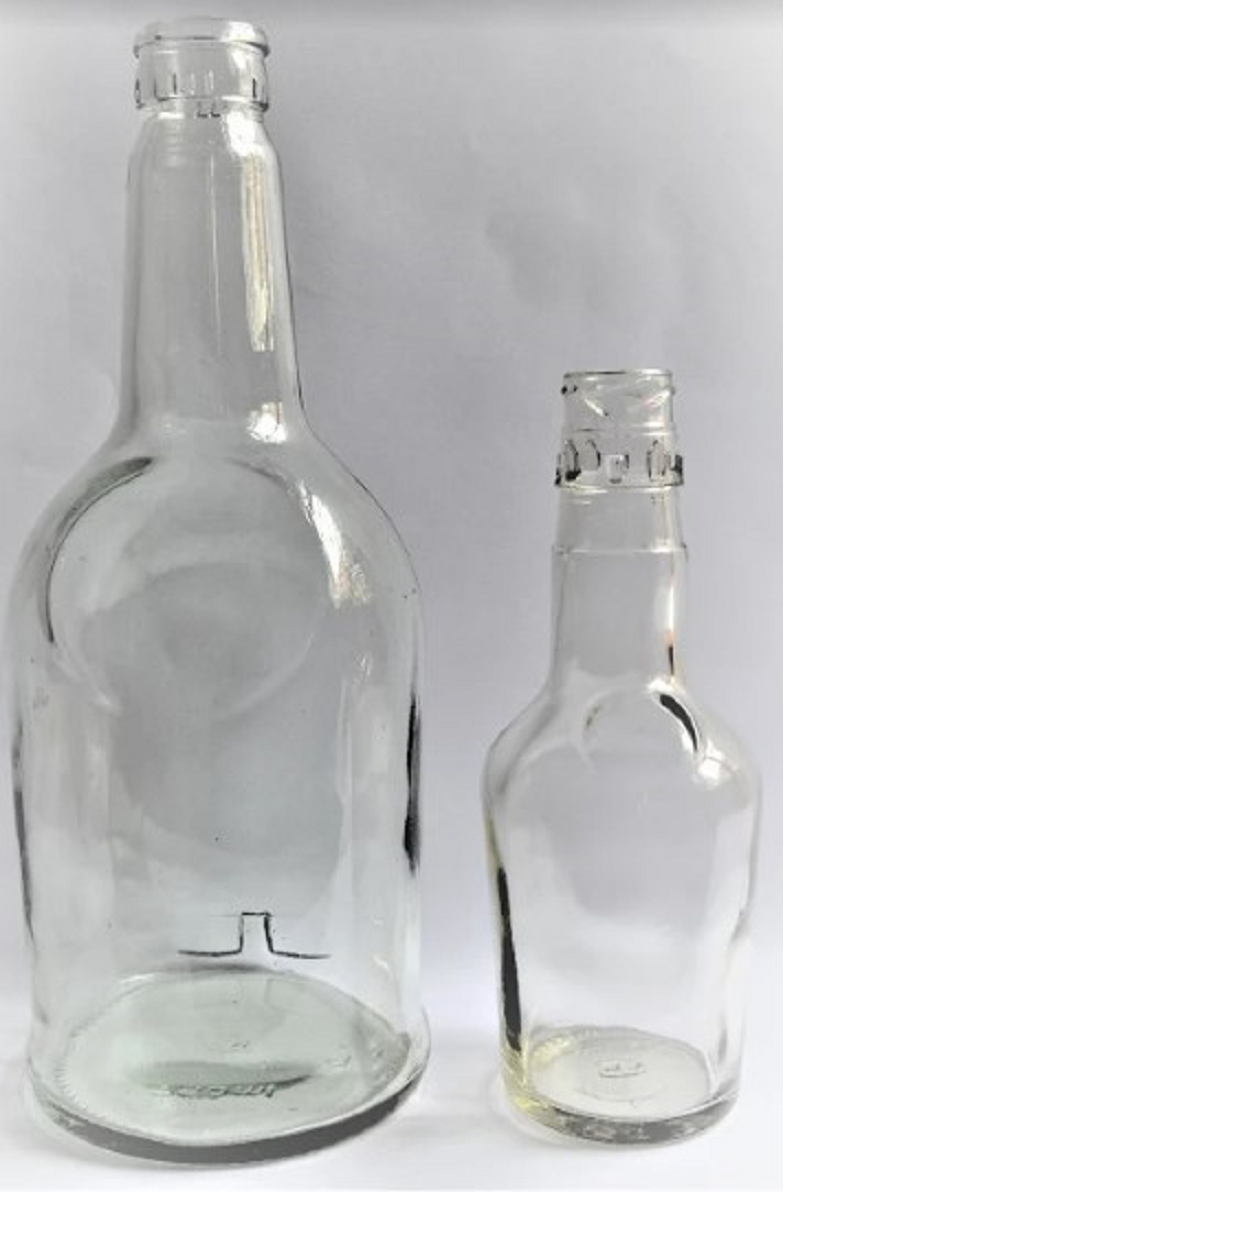glass_bottle: (1, 8, 452, 1178), (458, 340, 776, 1164)
